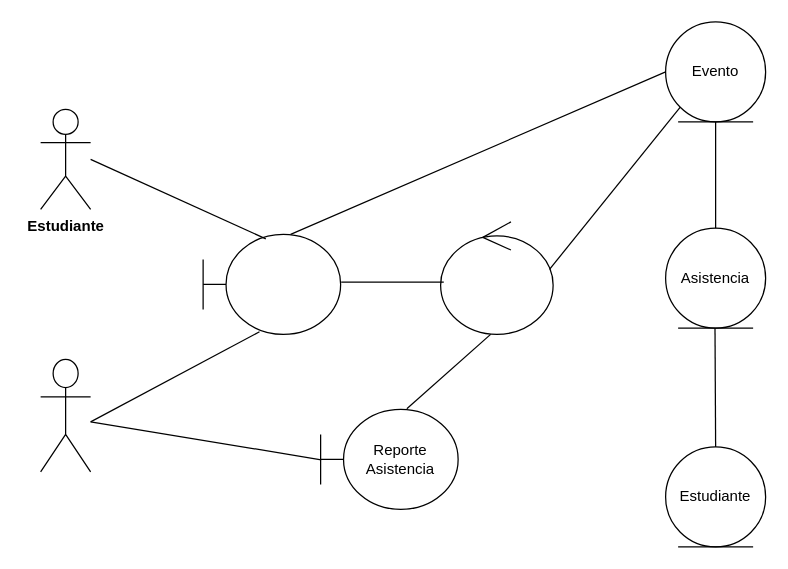
Image size: 788x569. Some labels were removed from this diagram. The shapes that lost their labels are listed below. From the top down, each one's box as (x1, y1, x2, y2) in pixels, then its label:
(202, 233, 341, 334): Pantallaevento
(439, 221, 553, 334): Gestión Asistencia
(39, 358, 91, 472): Organizador
